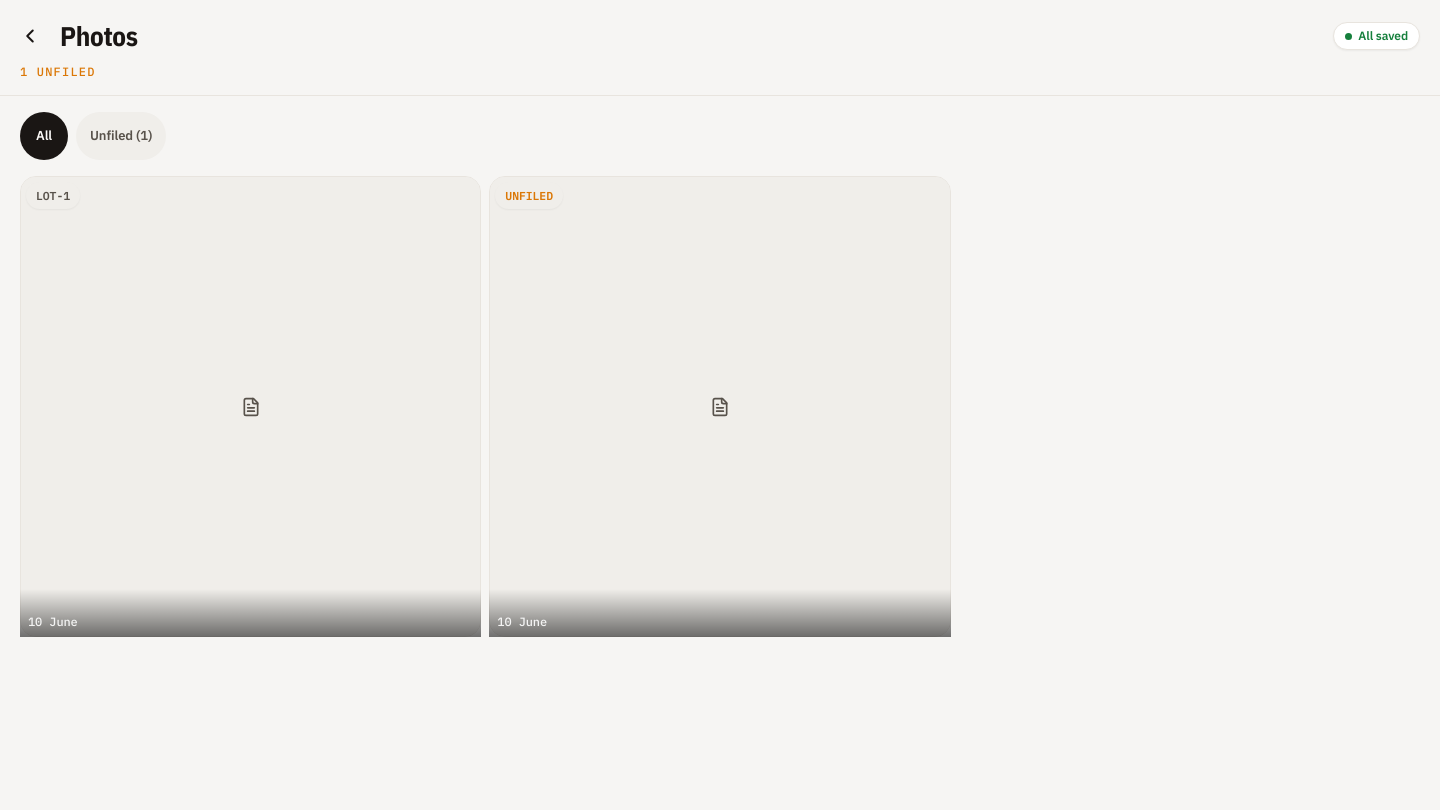
Scenario: PhotosListScreen › filters to Unfiled and hides filed photos
The width and height of the screenshot is (1440, 810).
Expected: the text "LOT-1" is shown, [26,182,80,209]
Click the button "Unfiled (1)" at (121, 136), box [76,112,166,160]
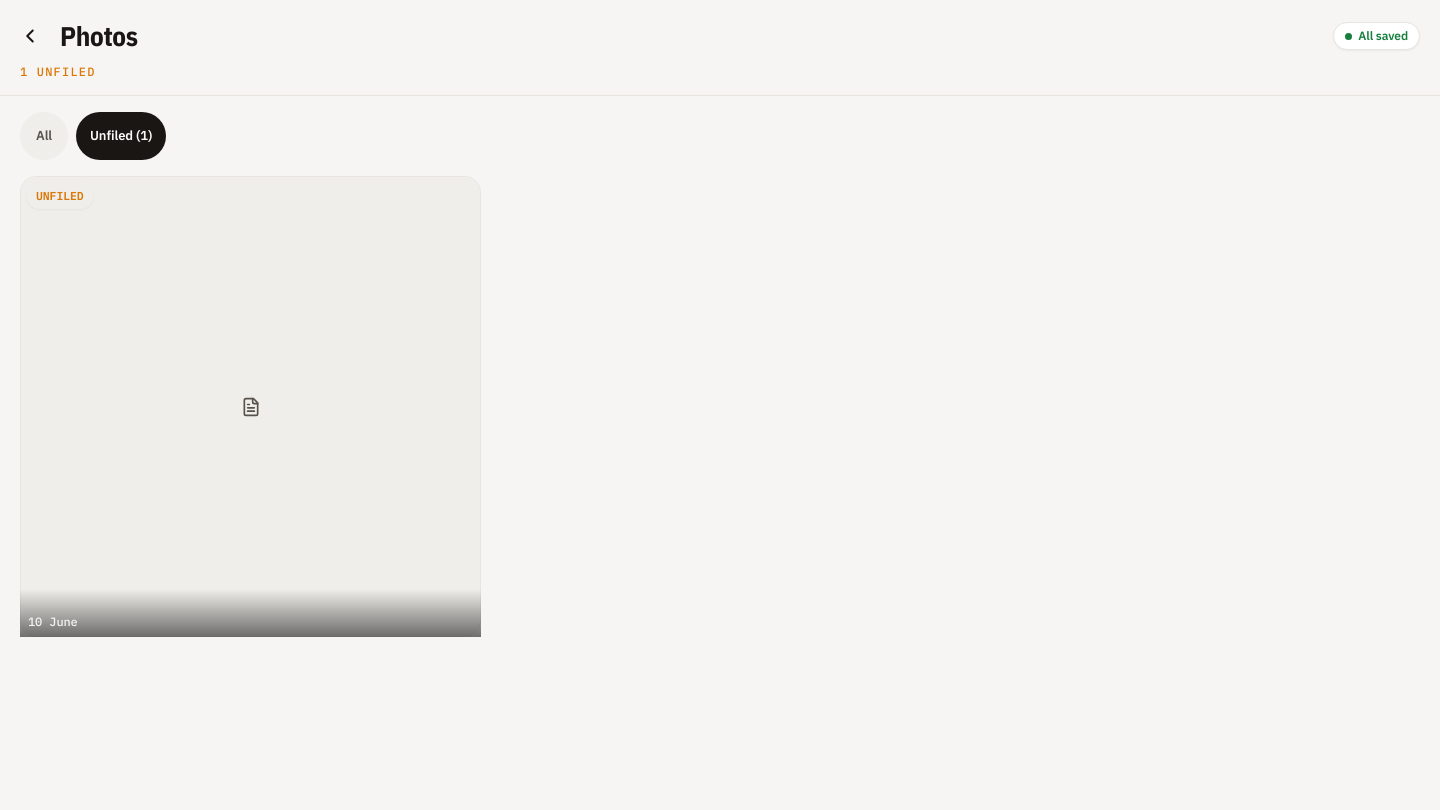
Expected: the text "UNFILED" is shown, [26,182,94,209]
Expected: the button "LOT-1" is gone
